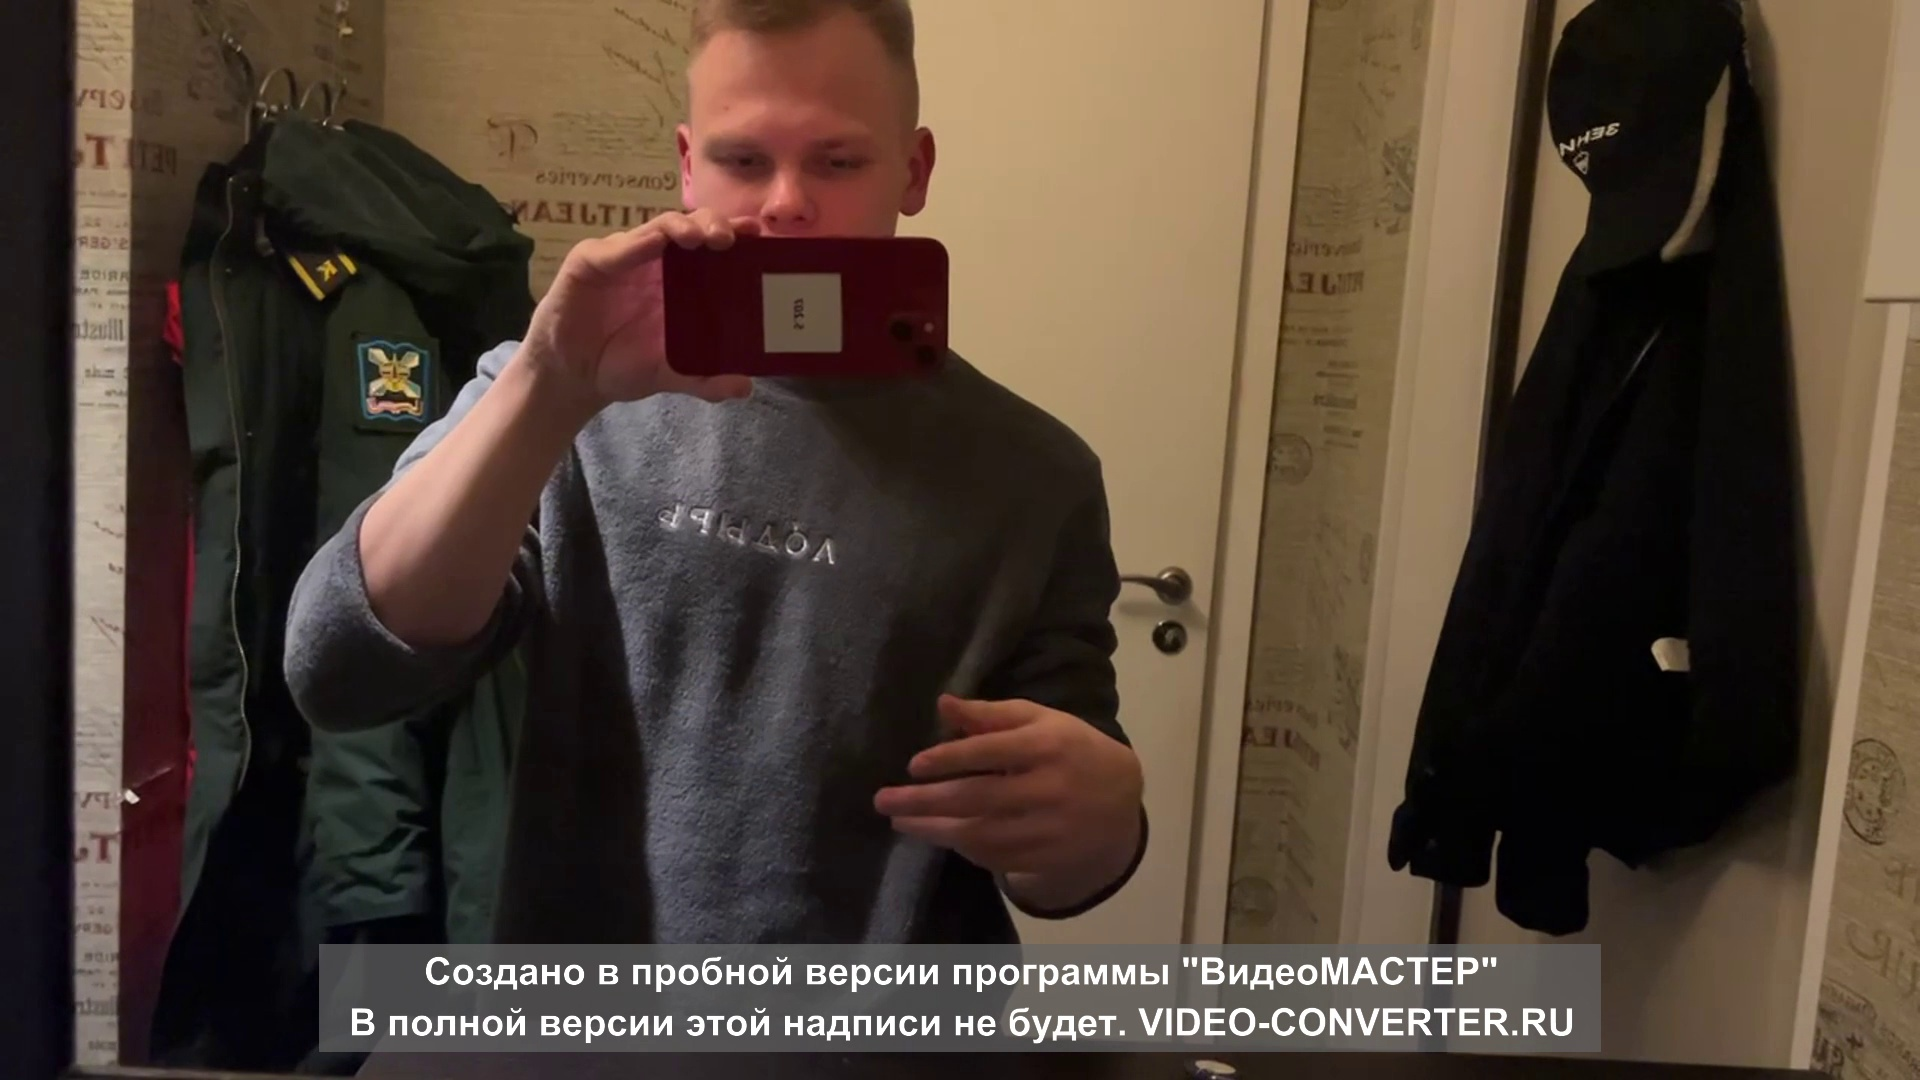Кисть: (872, 692, 1143, 882)
